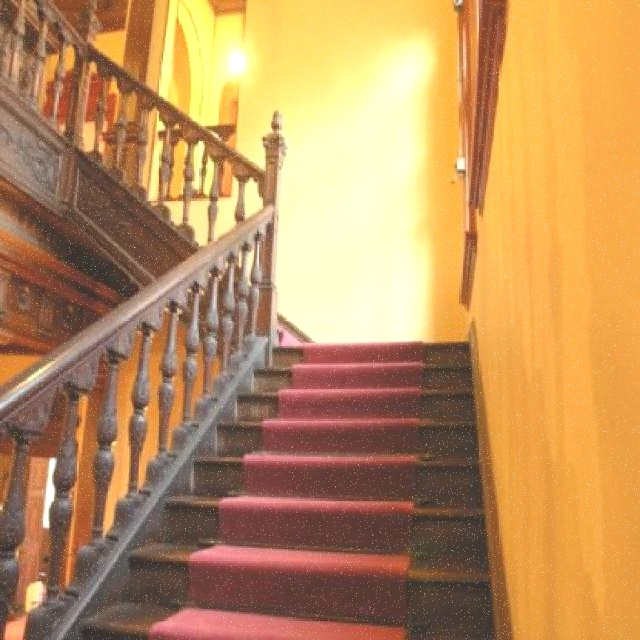stair: (188, 311, 463, 640)
